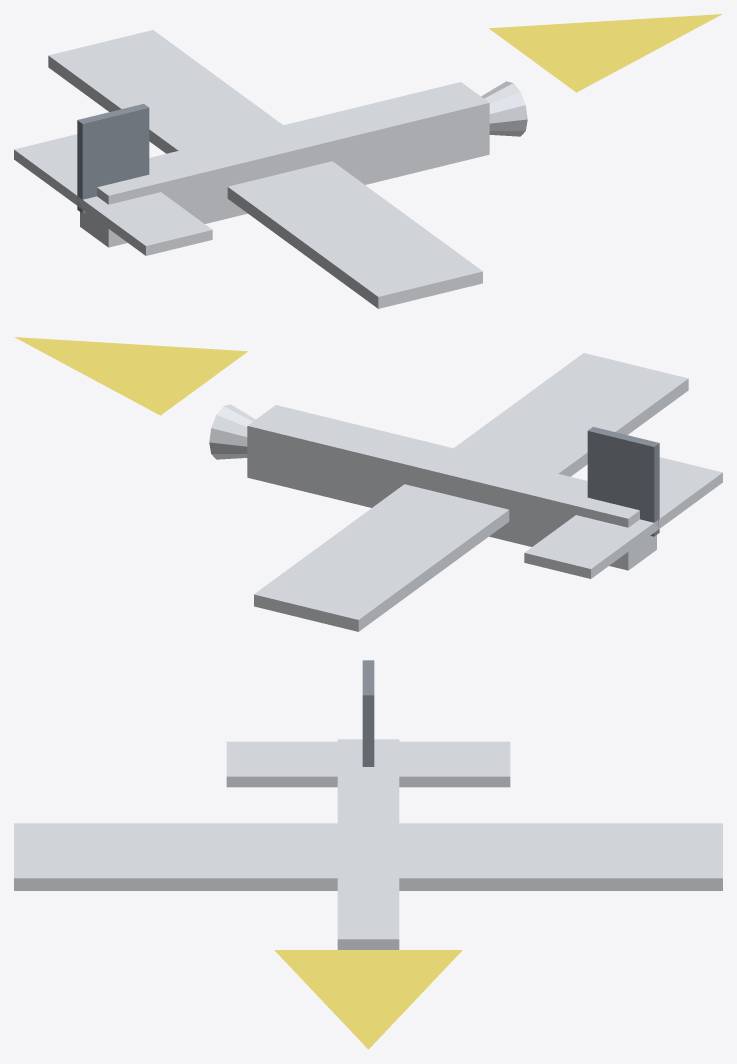
Rendered from ucak.glb.
3 views of the same model, one above another, from view 1: azimuth 30°, elevation 25°; view 2: azimuth 150°, elevation 25°; view 3: azimuth 270°, elevation 25° (orthographic). The views are drawn at different scales.
Size of the model in its own units: 33.75 by 5.95 by 30.
